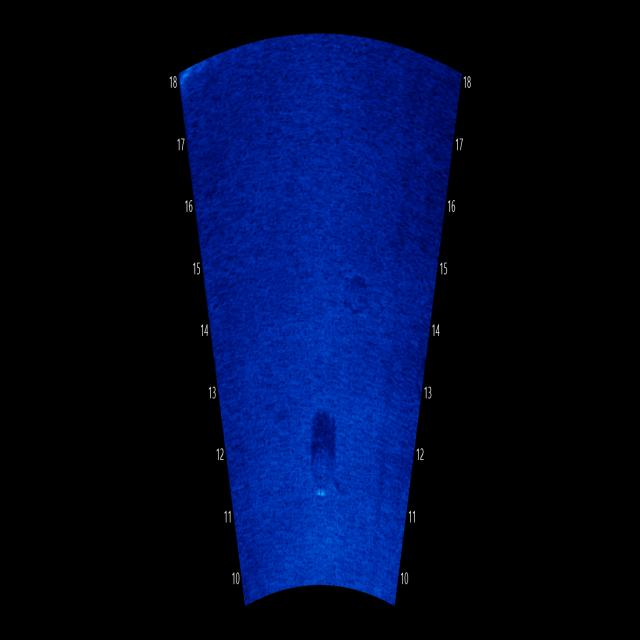circle: (297, 415, 350, 515)
